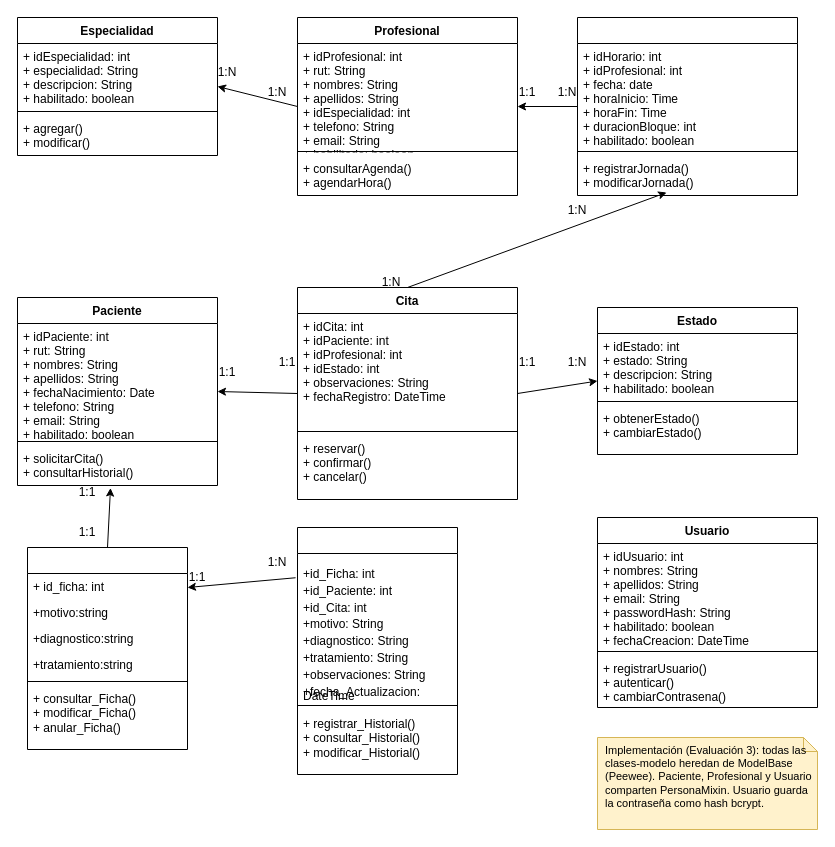
This 835x847 diagram has some shape labels left out. Each missing label, with the box of its shape:
Ficha_paciente: (26, 546, 188, 750)
Historial_clinica: (296, 526, 458, 774)
HorarioAtencion: (576, 16, 798, 196)
